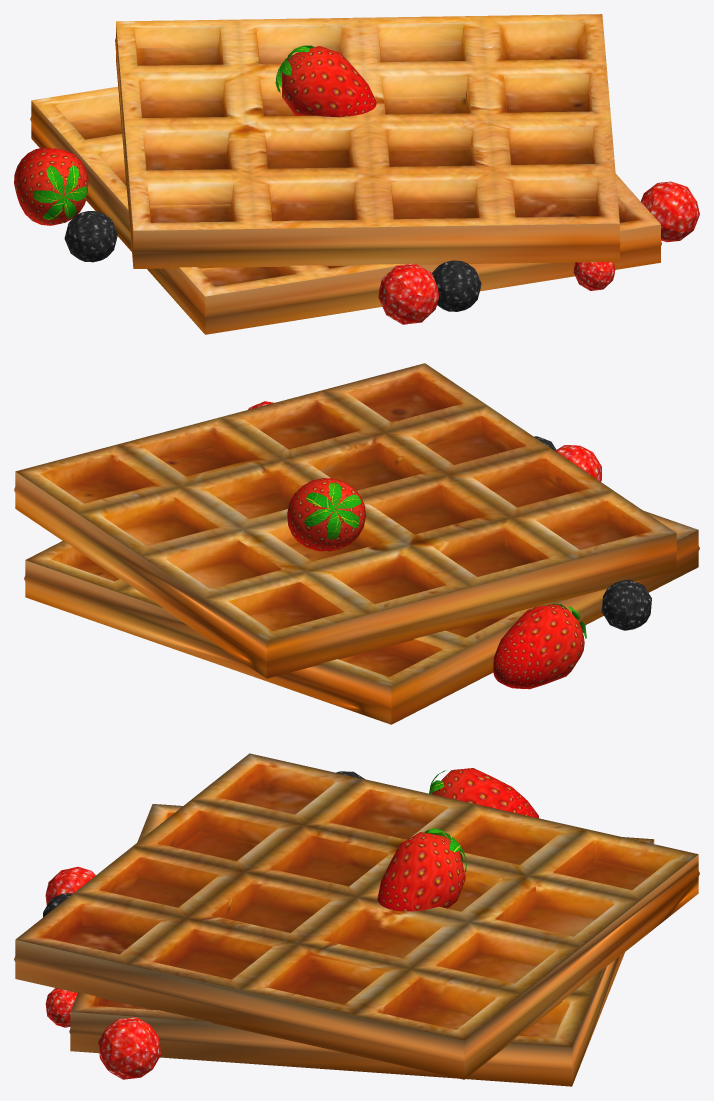
Rendered from waffle.glb.
3 renders of one model, top to bottom at view 1: azimuth 30°, elevation 25°; view 2: azimuth 150°, elevation 25°; view 3: azimuth 270°, elevation 25°, orthographic. The views are drawn at different scales.
Visible parts, largest first — view 1: Object_2, Object_18, Object_13, Object_14, Object_16, Object_15, Object_17, Object_10; view 2: Object_2, Object_18, Object_14, Object_13, Object_15; view 3: Object_2, Object_18, Object_13, Object_16, Object_14, Object_17.
Part boxes in pixels (<box>): Object_2: <box>115,14,620,268</box>; Object_18: <box>30,86,661,334</box>; Object_13: <box>282,46,376,117</box>; Object_14: <box>14,147,88,225</box>; Object_16: <box>641,181,699,242</box>; Object_15: <box>64,211,117,262</box>; Object_17: <box>573,262,615,290</box>; Object_10: <box>43,165,64,220</box>; Object_2: <box>14,363,677,678</box>; Object_18: <box>24,436,699,724</box>; Object_14: <box>493,604,586,689</box>; Object_13: <box>287,478,365,551</box>; Object_15: <box>601,579,651,630</box>; Object_2: <box>14,753,699,1079</box>; Object_18: <box>43,804,654,1086</box>; Object_13: <box>377,828,465,911</box>; Object_16: <box>98,1017,160,1079</box>; Object_14: <box>431,768,538,818</box>; Object_17: <box>45,988,77,1027</box>.
Bounding box in the file's own units: 0.4057 × 0.0891 × 0.3963.
Materials: 17 (16 with a texture image).
